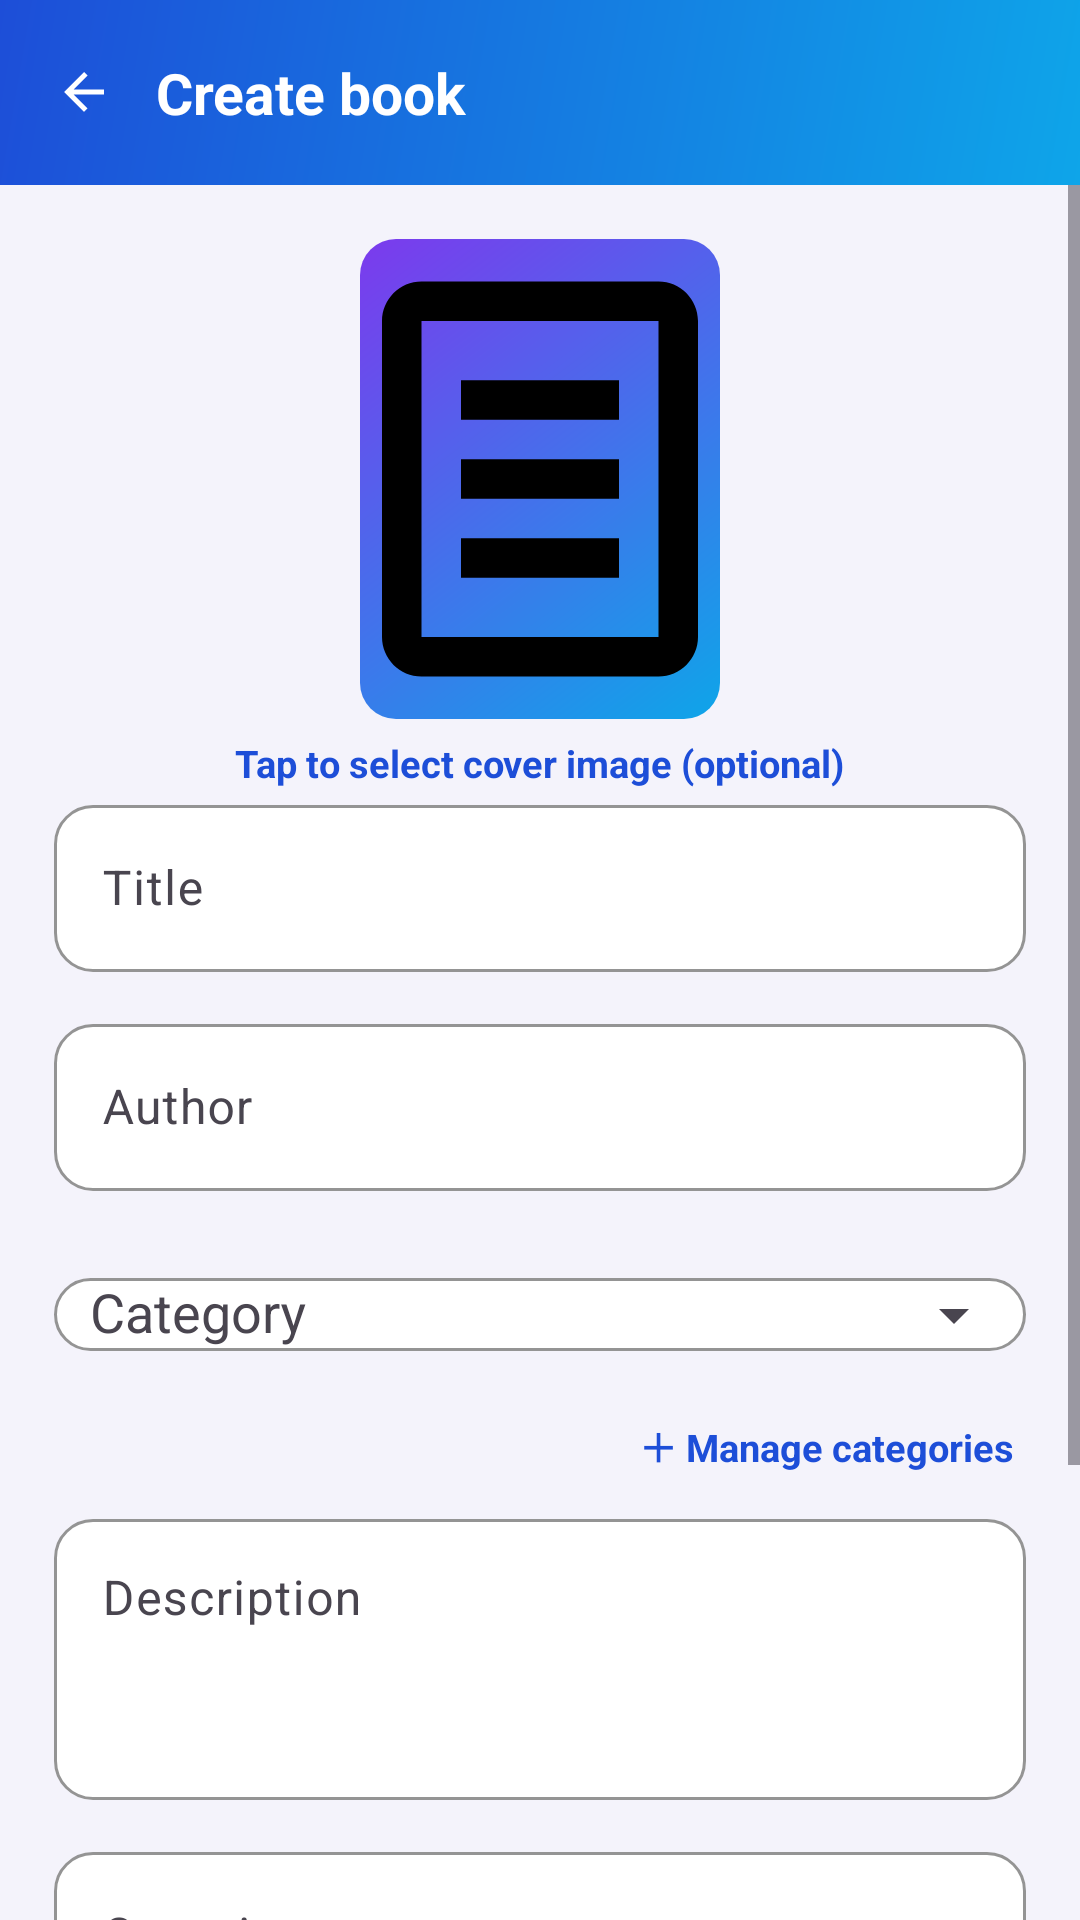

Icons on this 1080 x 1920 Android screen, each with its box as [x1=x1, y1=y1, x2=x2, y2=y2]:
arrow back: [x1=64, y1=72, x2=104, y2=112]
